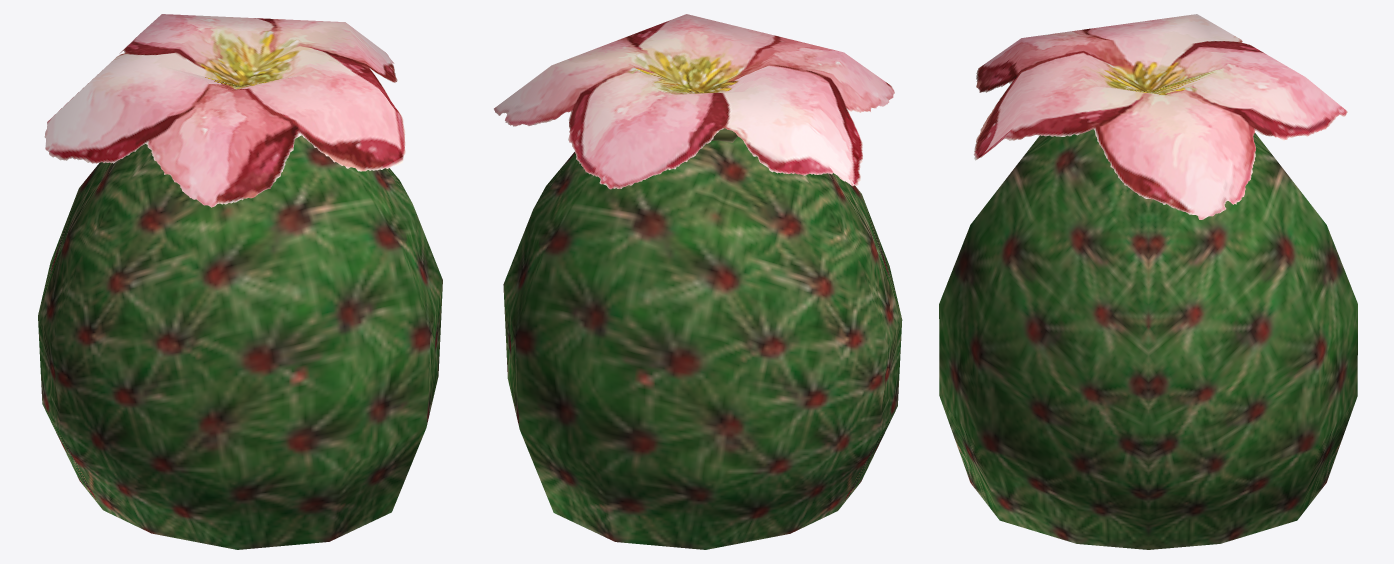
File: cactus-09.fbx
3 views of the same model, side by side, from view 1: azimuth 30°, elevation 25°; view 2: azimuth 150°, elevation 25°; view 3: azimuth 270°, elevation 25° (orthographic).
Visible parts, largest first — view 1: Sphere.007_Sphere.000; view 2: Sphere.007_Sphere.000; view 3: Sphere.007_Sphere.000.
Boxes of the visible parts, x1,y1,x2,y2 form: Sphere.007_Sphere.000: (38, 14, 442, 549); Sphere.007_Sphere.000: (494, 14, 902, 549); Sphere.007_Sphere.000: (939, 14, 1357, 549).
Size of the model in its own units: 0.4045 by 0.4244 by 0.4053.
